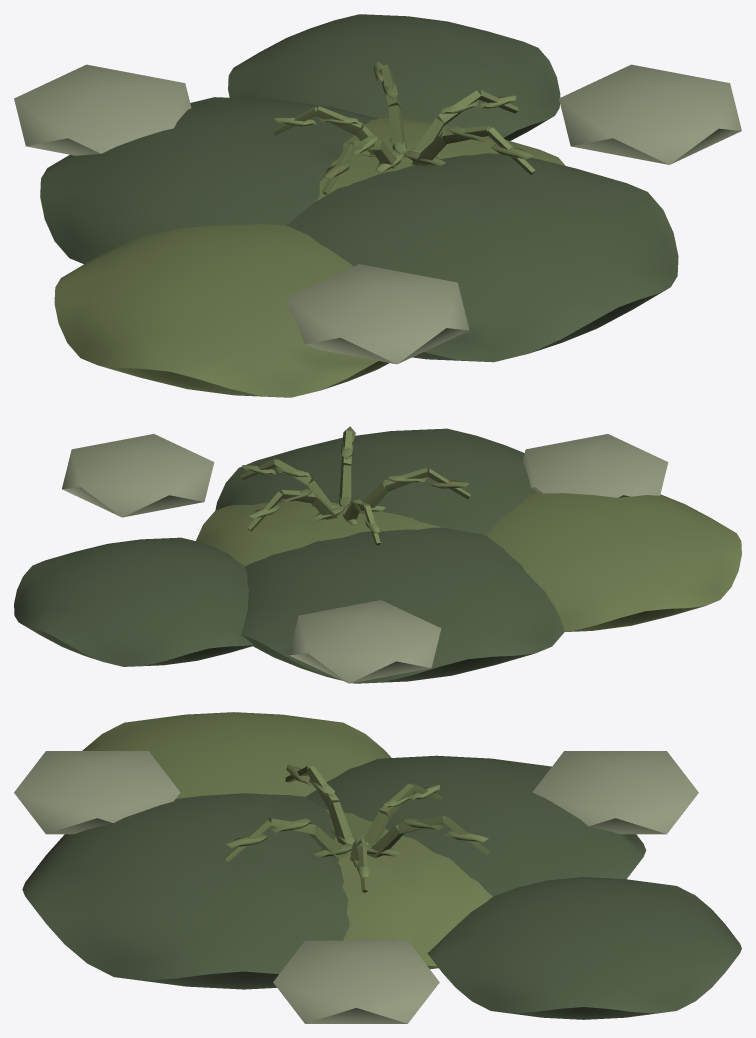
Rendered from cave_fern_c.glb.
The picture shows the model from 3 angles, top to bottom: view 1: azimuth 30°, elevation 25°; view 2: azimuth 150°, elevation 25°; view 3: azimuth 270°, elevation 25°; orthographic projection. The views are drawn at different scales.
Parts seen in each view (by area): view 1: Surface; view 2: Surface; view 3: Surface.
Part boxes in pixels (x1,y1,x2,y2): Surface: (14,14,741,397); Surface: (14,426,741,683); Surface: (14,712,741,1023).
Bounding box in the file's own units: 2.88 × 0.6142 × 2.68.
